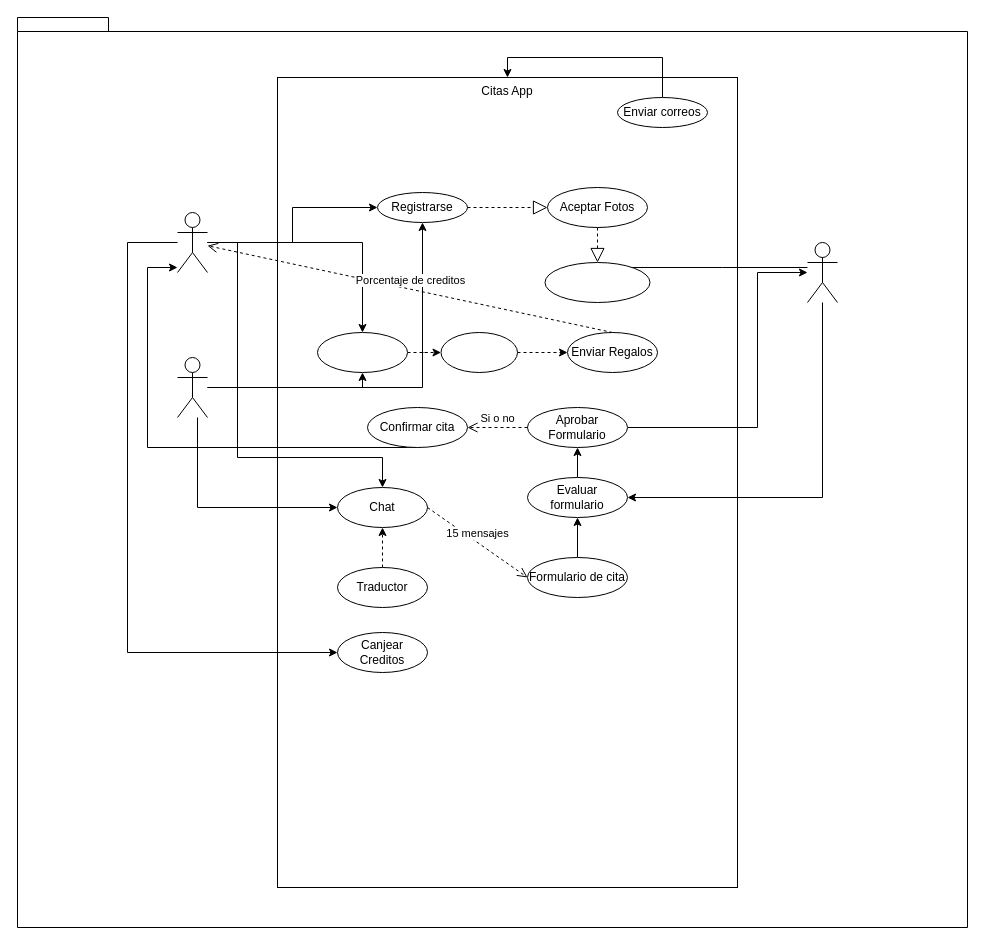
This 985x945 diagram has some shape labels left out. Here are the shapes that lost their labels. From the top down, the box of each, then its label:
(176, 212, 208, 272): soltero
(544, 262, 650, 302): Publicar perfil
(806, 242, 838, 302): Publicitario
(316, 332, 408, 372): Comprar Credito
(440, 332, 518, 372): Comprar Regalos
(176, 356, 208, 418): Interesado
